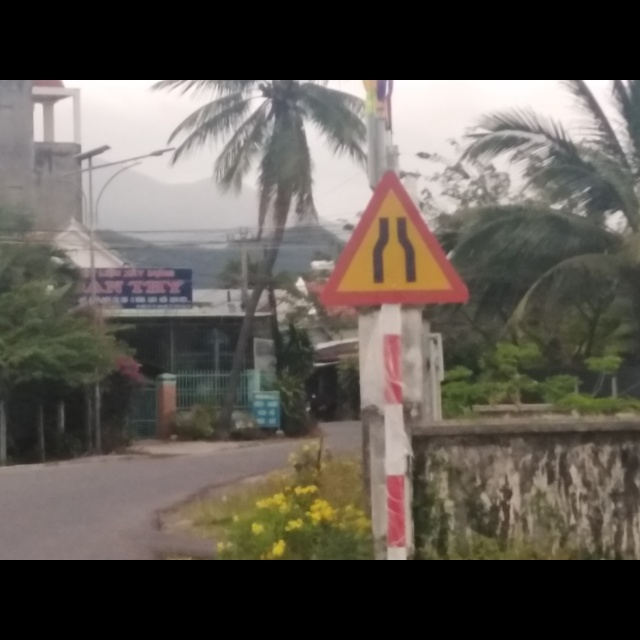Đường bị hẹp cả hai bên: (320, 170, 471, 306)
